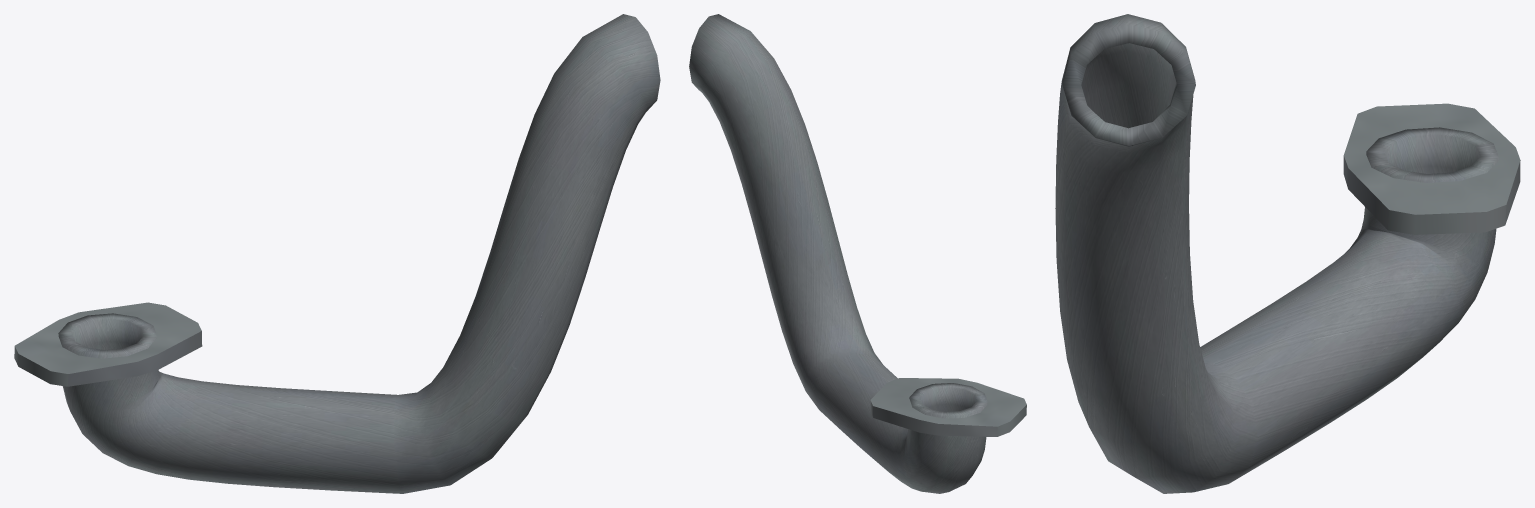
The model's file is TurboCharger_Small_Exhaust_Inlet_Pipe.obj.
3 views of the same model, side by side, from view 1: azimuth 30°, elevation 25°; view 2: azimuth 150°, elevation 25°; view 3: azimuth 270°, elevation 25° (orthographic). The views are drawn at different scales.
Parts seen in each view (by area): view 1: TurboCharger_Small_Exhaust_Inlet_Tube_BezierCurve.017, Header-Connector.002_motor_racing_exhaust_manifold_001-sharedass; view 2: TurboCharger_Small_Exhaust_Inlet_Tube_BezierCurve.017, Header-Connector.002_motor_racing_exhaust_manifold_001-sharedass; view 3: TurboCharger_Small_Exhaust_Inlet_Tube_BezierCurve.017, Header-Connector.002_motor_racing_exhaust_manifold_001-sharedass.
Boxes of the visible parts, x1,y1,x2,y2 form: TurboCharger_Small_Exhaust_Inlet_Tube_BezierCurve.017: [58, 14, 660, 493]; Header-Connector.002_motor_racing_exhaust_manifold_001-sharedass: [14, 302, 202, 386]; TurboCharger_Small_Exhaust_Inlet_Tube_BezierCurve.017: [689, 14, 987, 493]; Header-Connector.002_motor_racing_exhaust_manifold_001-sharedass: [870, 378, 1026, 436]; TurboCharger_Small_Exhaust_Inlet_Tube_BezierCurve.017: [1055, 14, 1498, 493]; Header-Connector.002_motor_racing_exhaust_manifold_001-sharedass: [1343, 103, 1520, 234].
Bounding box in the file's own units: 0.2099 × 0.1765 × 0.1253.
